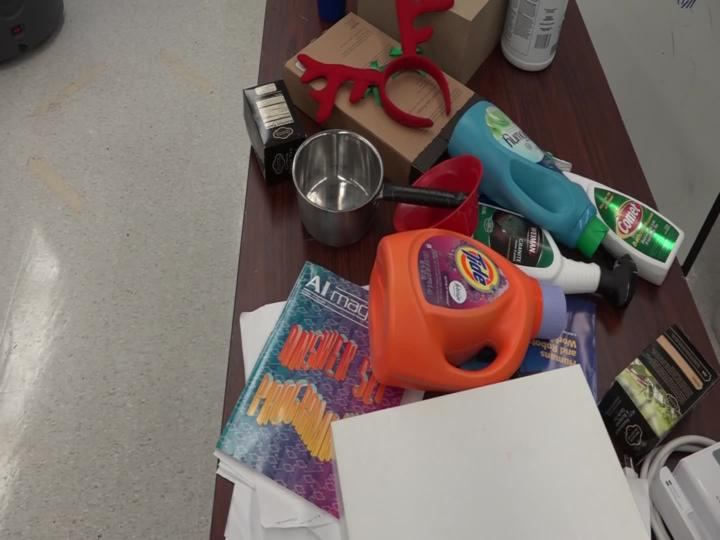tide: (346, 212, 579, 402)
